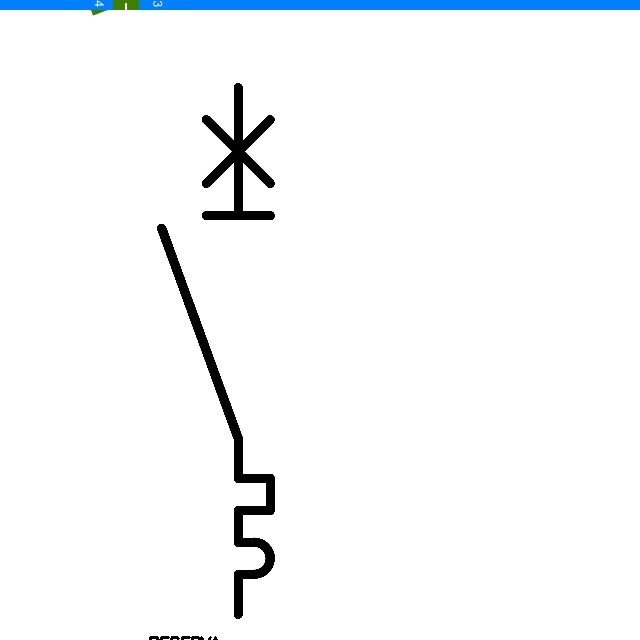interruptor_termomagnetico: (148, 74, 284, 628)
